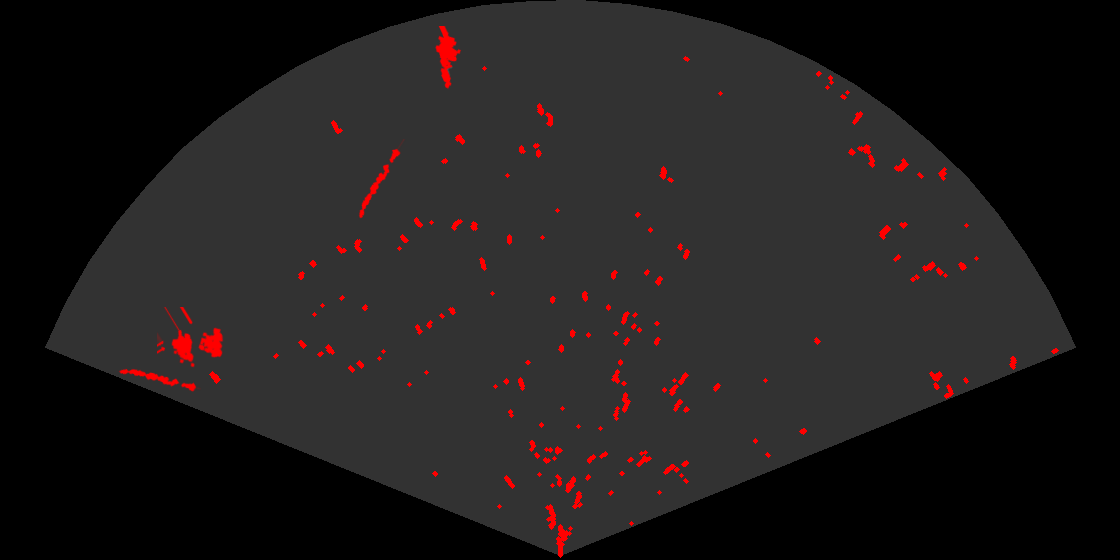cage: (157, 307, 225, 369)
chain: (357, 139, 406, 220), (117, 367, 201, 393)
frogman: (434, 26, 463, 90)
